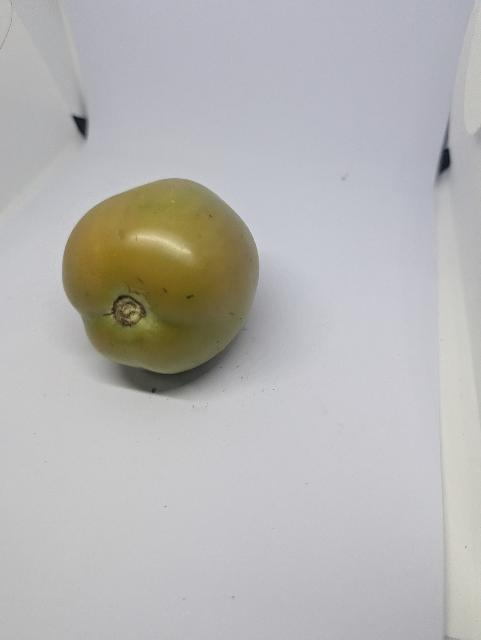breaker: (59, 177, 265, 378)
